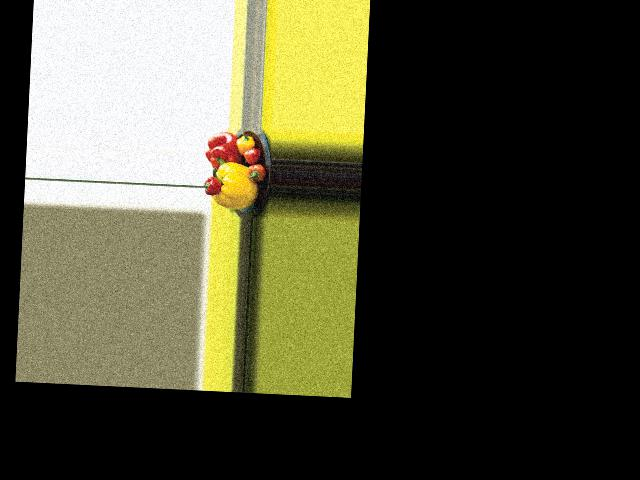bell_pepper: (235, 133, 254, 153)
